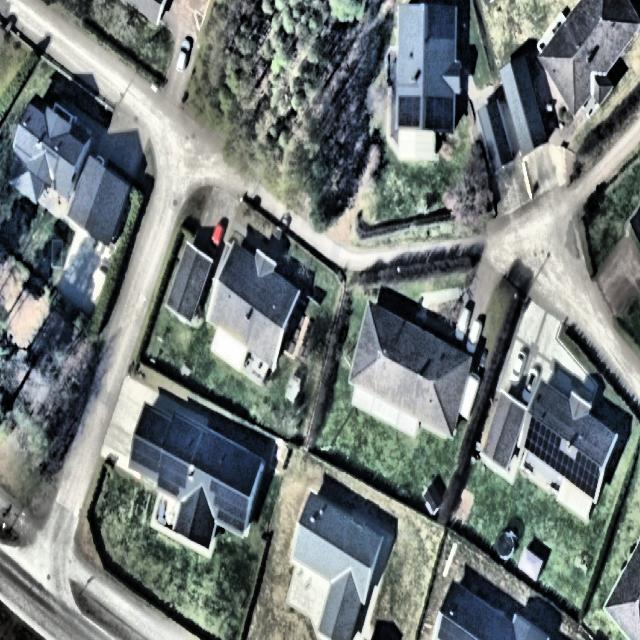roof_pv: (209, 481, 249, 533), (525, 417, 561, 463), (158, 451, 190, 500), (129, 436, 163, 474), (575, 452, 601, 498), (548, 445, 576, 484), (425, 98, 455, 133), (396, 94, 424, 129)
